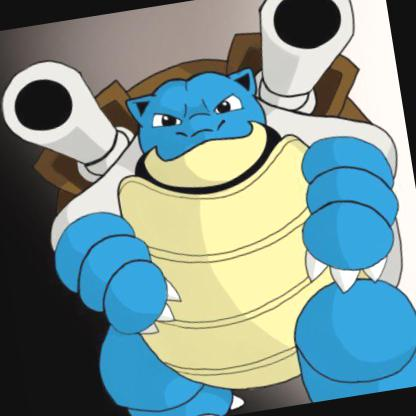Turtok: (0, 31, 415, 415)
